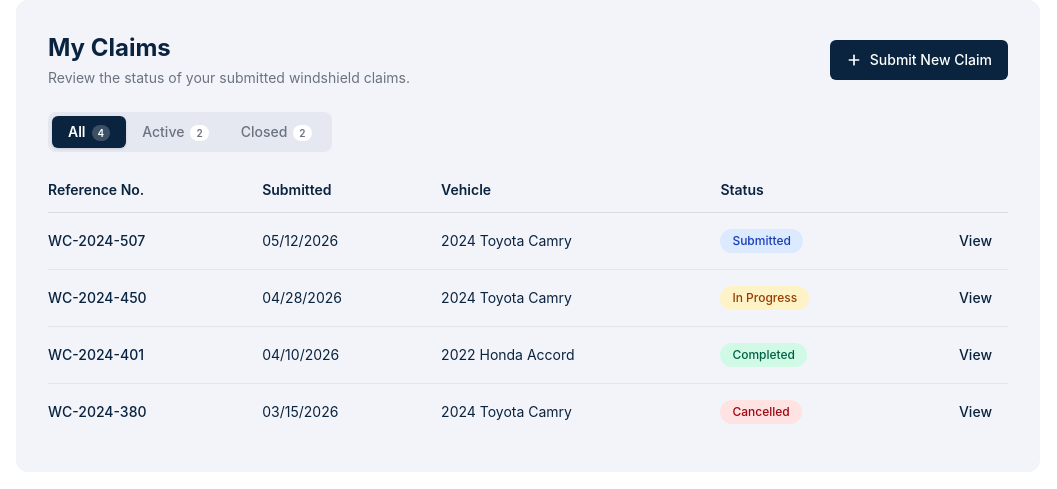
Test: MyClaimsPage › filters to Active when the Active pill is clicked
Click the tab "Active2": (175, 132) [126,116,225,148]
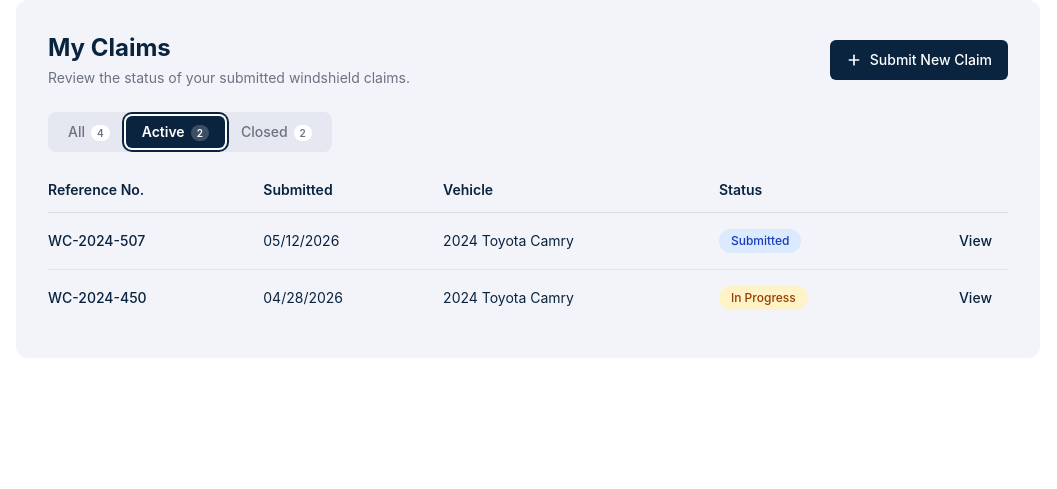
Expected: the link "WC-2024-507" is shown, [48,232,145,249]
Result: the link "WC-2024-401" is gone
Result: the link "WC-2024-380" is gone
